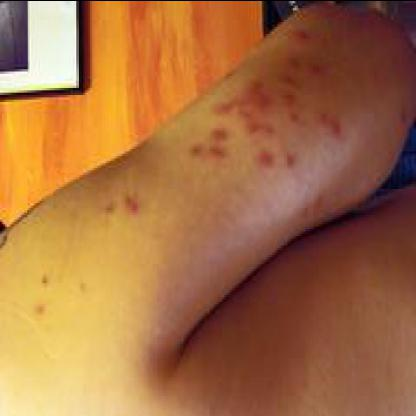Bed Bug: (184, 94, 226, 169), (230, 70, 271, 138), (250, 144, 304, 176), (99, 186, 146, 216), (272, 54, 320, 82), (276, 87, 302, 127), (316, 106, 342, 138), (290, 18, 312, 44), (26, 296, 43, 326)
